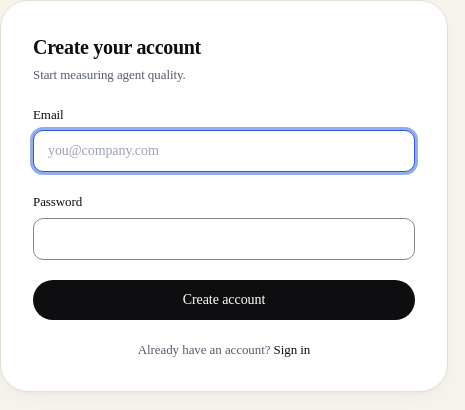
Scenario: SignUpForm › switches to the check-your-email view on success
The image size is (465, 410).
Step 1. Type "a@b.com" into the field labelled "Email" → (224, 151), box [33, 130, 415, 172]
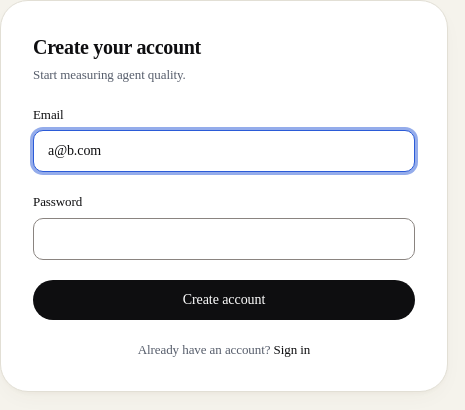
Step 2. Type "secret1" into the password field labelled "Password" → (224, 238), box [33, 218, 415, 260]
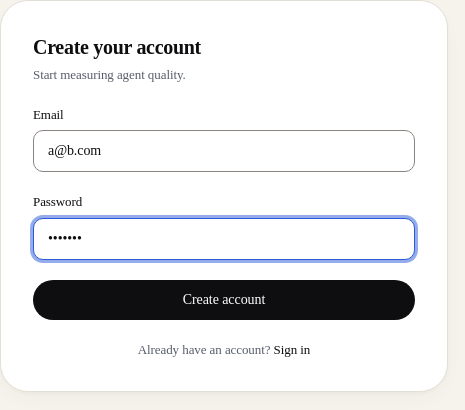
Step 3. Click the button "Create account" → (224, 300), box [33, 280, 415, 320]
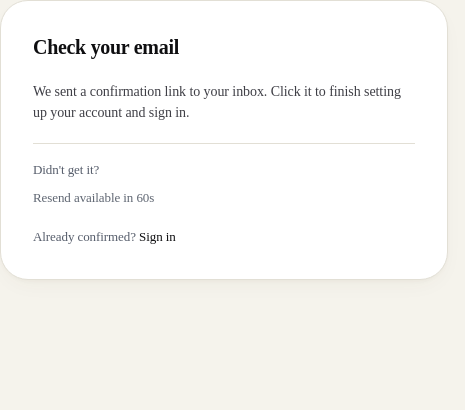
Expected: the heading "Check your email" is shown, [33, 36, 179, 58]
Expected: the label labelled "Password" is gone
